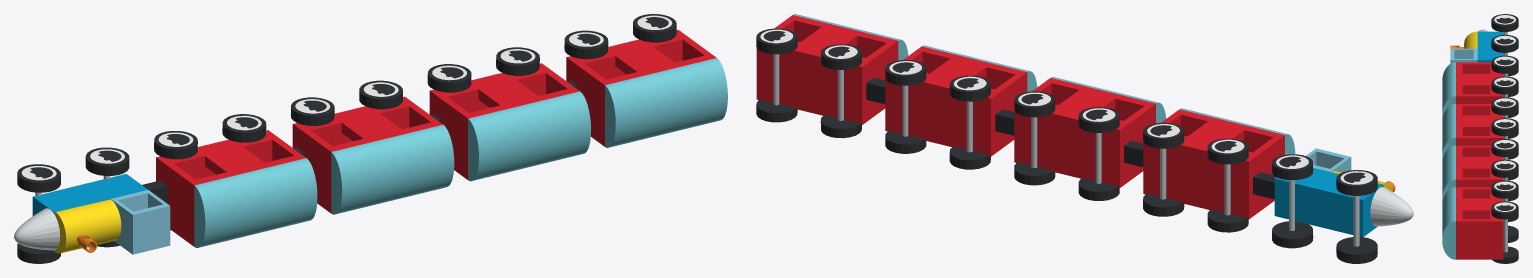
The model's file is tinker.obj.
The picture shows the model from 3 angles, left to right: view 1: azimuth 30°, elevation 25°; view 2: azimuth 150°, elevation 25°; view 3: azimuth 270°, elevation 25°; orthographic projection. The views are drawn at different scales.
Visible parts, largest first — view 1: group_0_7720667, group_0_15277357, group_0_2829873, group_0_8768998, group_0_16448250, group_0_16768282, group_0_40919, group_0_14541540; view 2: group_0_15277357, group_0_2829873, group_0_40919, group_0_12568524, group_0_16448250, group_0_7720667, group_0_14541540, group_0_8768998; view 3: group_0_15277357, group_0_2829873, group_0_7720667, group_0_16448250, group_0_40919, group_0_8768998, group_0_12568524, group_0_16768282.
Boxes of the visible parts, bbox=[...] form: group_0_7720667: bbox=[194, 58, 727, 247]; group_0_15277357: bbox=[156, 30, 716, 246]; group_0_2829873: bbox=[17, 14, 676, 263]; group_0_8768998: bbox=[111, 190, 170, 254]; group_0_16448250: bbox=[21, 15, 672, 180]; group_0_16768282: bbox=[54, 199, 121, 253]; group_0_40919: bbox=[32, 173, 147, 252]; group_0_14541540: bbox=[14, 208, 60, 250]; group_0_15277357: bbox=[756, 15, 1284, 219]; group_0_2829873: bbox=[756, 28, 1377, 263]; group_0_40919: bbox=[1274, 168, 1383, 237]; group_0_12568524: bbox=[773, 54, 1359, 246]; group_0_16448250: bbox=[760, 29, 1373, 184]; group_0_7720667: bbox=[793, 14, 1295, 154]; group_0_14541540: bbox=[1370, 187, 1413, 226]; group_0_8768998: bbox=[1306, 148, 1351, 172]; group_0_15277357: bbox=[1456, 62, 1503, 259]; group_0_2829873: bbox=[1491, 14, 1518, 263]; group_0_7720667: bbox=[1442, 62, 1455, 259]; group_0_16448250: bbox=[1494, 15, 1515, 211]; group_0_40919: bbox=[1477, 31, 1504, 62]; group_0_8768998: bbox=[1450, 48, 1477, 63]; group_0_12568524: bbox=[1503, 32, 1507, 252]; group_0_16768282: bbox=[1464, 31, 1477, 48].
Bounding box in the file's own units: 358 × 41.49 × 56.
